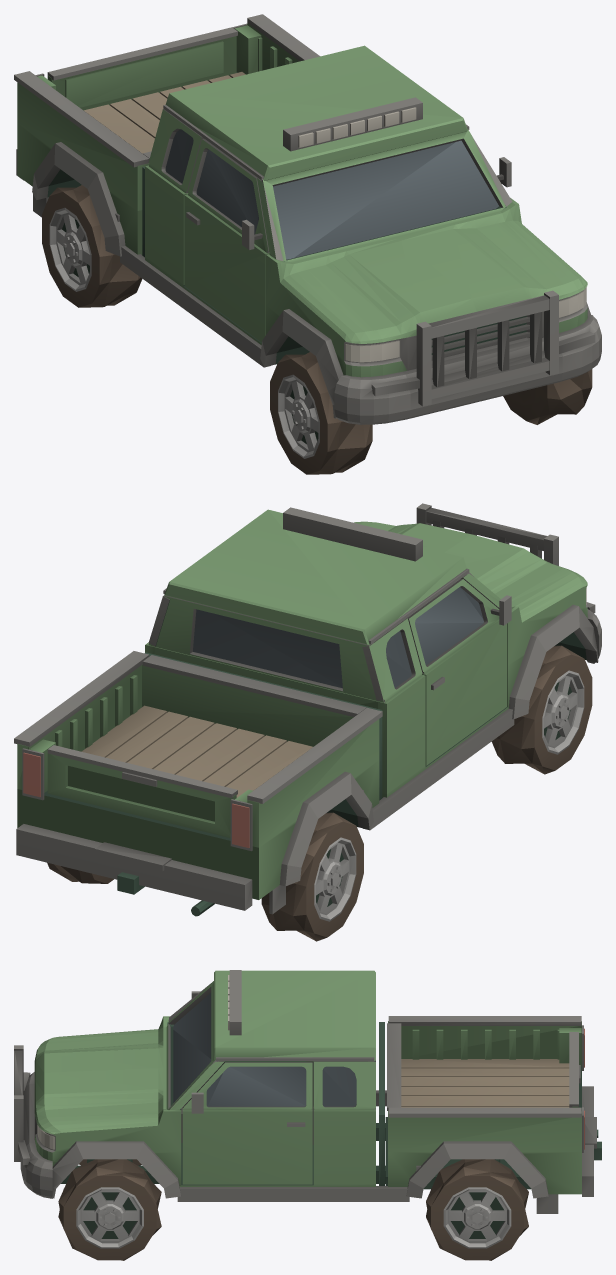
File: pickup.glb
3 views of the same model, one above another, from view 1: azimuth 30°, elevation 25°; view 2: azimuth 150°, elevation 25°; view 3: azimuth 270°, elevation 25° (orthographic). The views are drawn at different scales.
Parts seen in each view (by area): view 1: pickup; view 2: pickup; view 3: pickup.
Boxes of the visible parts, left/top/right/bottom form: pickup: left=14, top=14, right=601, bottom=474; pickup: left=14, top=503, right=601, bottom=941; pickup: left=14, top=970, right=601, bottom=1260.
Bounding box in the file's own units: 2.35 × 2.28 × 5.59.
